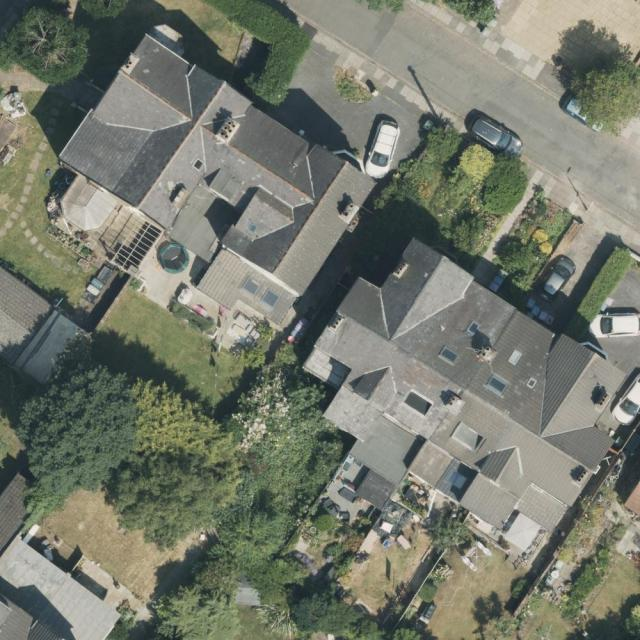roof: (303, 235, 631, 535), (56, 30, 380, 329), (0, 470, 124, 639), (0, 263, 58, 368)
skylight: (442, 466, 473, 492), (484, 373, 511, 400), (436, 344, 459, 368), (239, 276, 262, 299), (259, 289, 279, 310), (507, 345, 524, 366), (190, 153, 207, 173), (524, 375, 542, 393), (247, 221, 262, 237)
